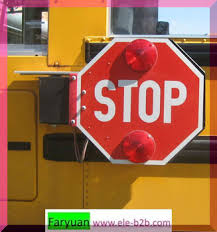Stop: (67, 16, 217, 179)
